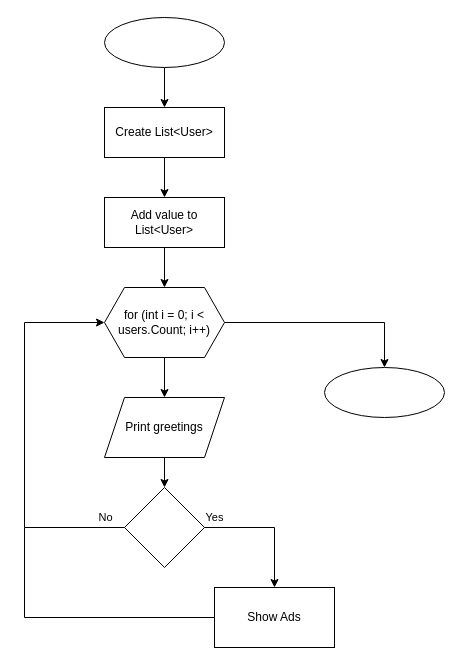
The diagram is 462 pixels wide and 665 high, and some of its shapes have lost their labels. The shapes that lost their labels are listed below. From the top down, each one's box as (x1, y1, x2, y2) in pixels, then its label:
(104, 16, 224, 68): Begin
(324, 366, 444, 418): End
(124, 486, 204, 568): if not premium?
